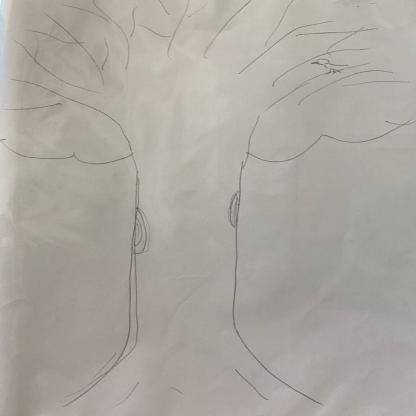bird: (311, 58, 347, 74)
branch_line: (12, 3, 372, 127)
crown_cloud: (0, 0, 415, 165)
trunk_straight: (134, 180, 242, 320)
